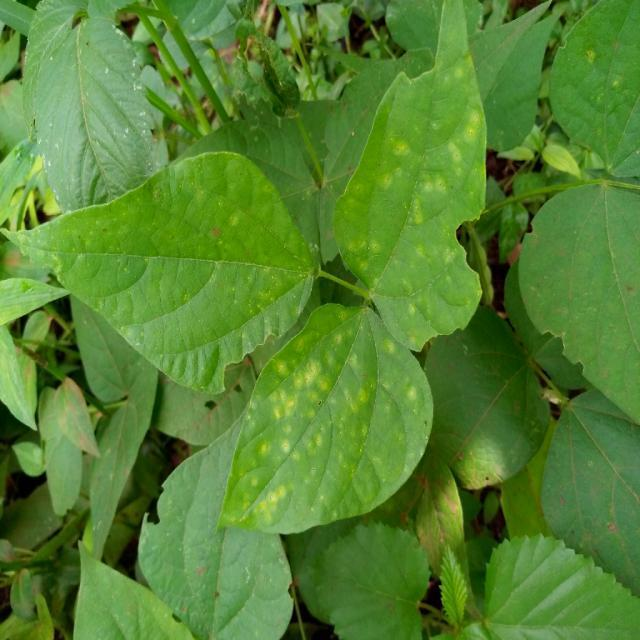hawar: (246, 322, 450, 518), (349, 108, 510, 326), (120, 188, 300, 347)
